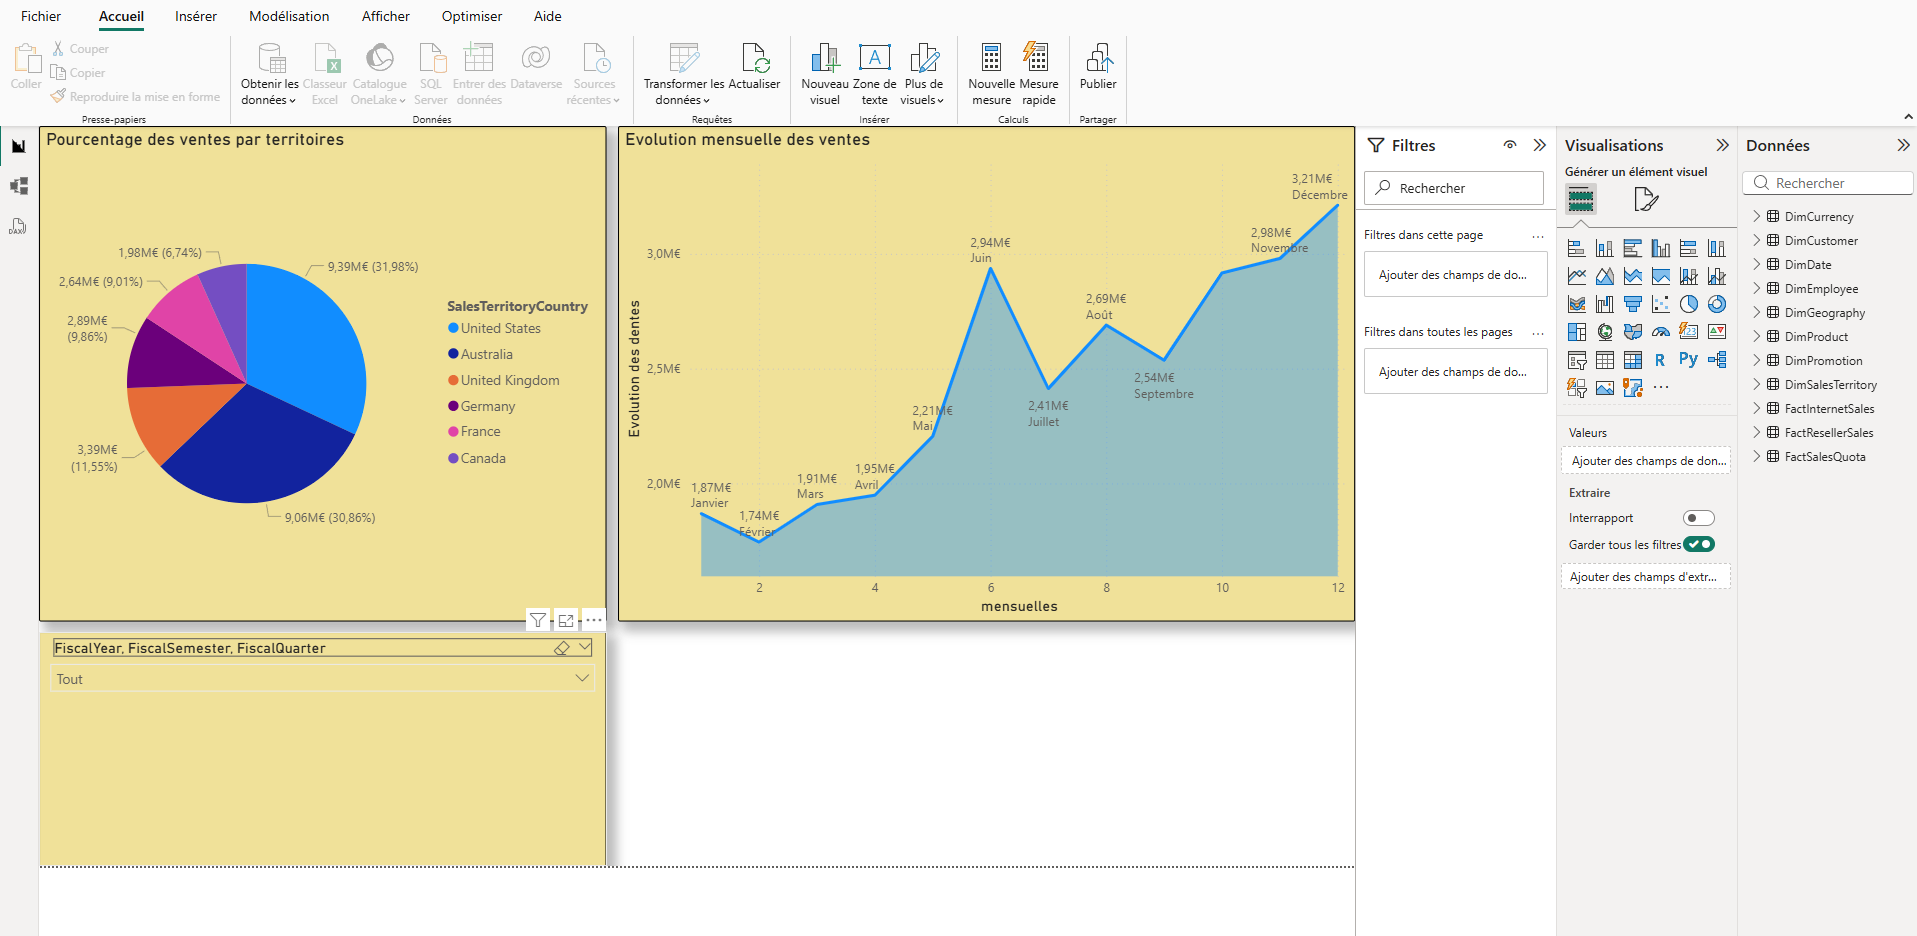

What the dashboard file says about the page in this screenshot:
{"tool":"powerbi","page":{"name":"Page 2","canvas":[1280,720],"ordinal":1},"visuals":[{"type":"pieChart","fields":{"Y":["FactInternetSales.Somme de SalesAmount"],"Category":["DimSalesTerritory.SalesTerritoryCountry"]},"box":[0,0,552,482],"z":0},{"type":"areaChart","title":"Evolution mensuelle des ventes","fields":{"Category":["DimDate.MonthNumberOfYear"],"Y":["FactInternetSales.Somme de SalesAmount"]},"box":[563,0,717,482],"z":1000},{"type":"slicer","fields":{"Values":["DimDate.Fiscal_Hierarchie.FiscalYear","DimDate.Fiscal_Hierarchie.FiscalSemester","DimDate.Fiscal_Hierarchie.FiscalQuarter"]},"box":[0,492,552,228],"z":2000}]}

Visuals, with their boxes on the page's 1280x720 design canvas (x1, y1, x2, y2). These are canvas units, not pixel positions in the 1917x936 screenshot, which may show the page scaled, cropped or inside an application window:
pieChart - FactInternetSales.Somme de SalesAmount x DimSalesTerritory.SalesTerritoryCountry: select_region(0, 0, 552, 482)
"Evolution mensuelle des ventes" areaChart: select_region(563, 0, 1280, 482)
slicer - DimDate.Fiscal_Hierarchie.FiscalYear x DimDate.Fiscal_Hierarchie.FiscalSemester: select_region(0, 492, 552, 720)
